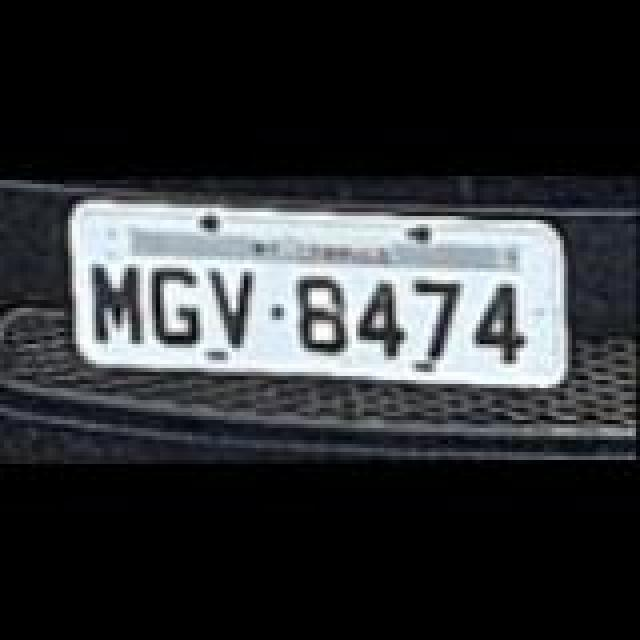4: (478, 280, 526, 364), (358, 278, 406, 358)
6: (296, 274, 348, 354)
7: (414, 276, 462, 360)
G: (152, 262, 204, 342)
M: (92, 264, 144, 344)
V: (212, 266, 264, 346)
